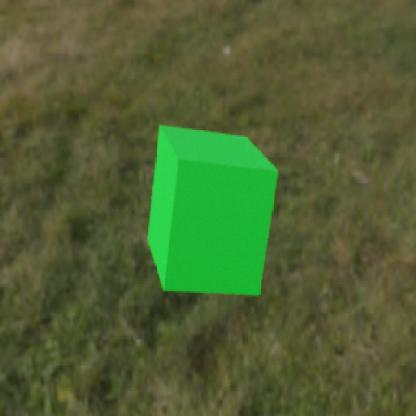green_cube: (147, 123, 278, 295)
